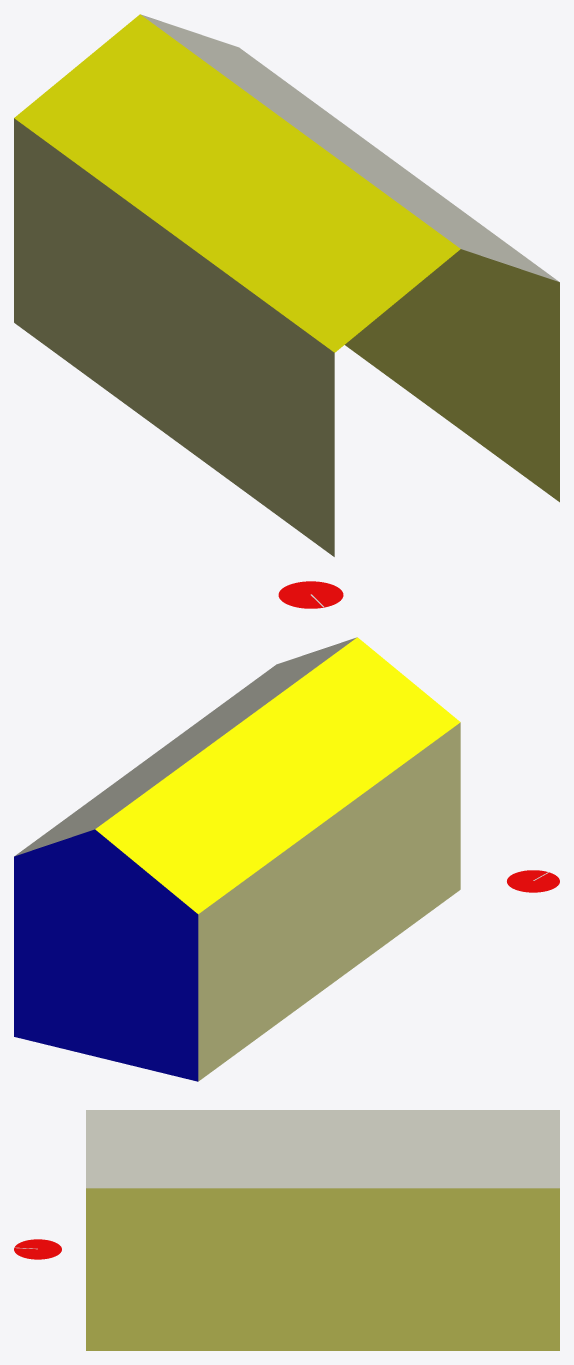
The model's file is result.glb.
3 renders of one model, top to bottom at view 1: azimuth 30°, elevation 25°; view 2: azimuth 150°, elevation 25°; view 3: azimuth 270°, elevation 25°, orthographic. The views are drawn at different scales.
Visible parts, largest first — view 1: aa509c49-599c-41b8-8ac4-75c00ee366f7__undefined, 5690f084-a751-48bd-b3af-f2ab0686deff__undefined, a29b5246-f253-46e8-9c2e-6024d4045c79__undefined, b1ad3165-e57b-4217-94e1-68bbd7c3fe3b__undefined, b8d751ab-0cc4-4c48-9a34-1dfad7b91958__Circle; view 2: aa509c49-599c-41b8-8ac4-75c00ee366f7__undefined, 5690f084-a751-48bd-b3af-f2ab0686deff__undefined, 6f7b2bb3-0bf7-476f-9795-7c1560652826__undefined, b1ad3165-e57b-4217-94e1-68bbd7c3fe3b__undefined, b8d751ab-0cc4-4c48-9a34-1dfad7b91958__Circle; view 3: a29b5246-f253-46e8-9c2e-6024d4045c79__undefined, b1ad3165-e57b-4217-94e1-68bbd7c3fe3b__undefined, b8d751ab-0cc4-4c48-9a34-1dfad7b91958__Circle.
Boxes of the visible parts, left/top/right/bottom form: aa509c49-599c-41b8-8ac4-75c00ee366f7__undefined: left=14, top=118, right=334, bottom=556; 5690f084-a751-48bd-b3af-f2ab0686deff__undefined: left=14, top=14, right=460, bottom=352; a29b5246-f253-46e8-9c2e-6024d4045c79__undefined: left=345, top=249, right=559, bottom=502; b1ad3165-e57b-4217-94e1-68bbd7c3fe3b__undefined: left=141, top=14, right=558, bottom=281; b8d751ab-0cc4-4c48-9a34-1dfad7b91958__Circle: left=278, top=581, right=343, bottom=608; aa509c49-599c-41b8-8ac4-75c00ee366f7__undefined: left=198, top=722, right=460, bottom=1081; 5690f084-a751-48bd-b3af-f2ab0686deff__undefined: left=95, top=637, right=460, bottom=914; 6f7b2bb3-0bf7-476f-9795-7c1560652826__undefined: left=14, top=829, right=198, bottom=1081; b1ad3165-e57b-4217-94e1-68bbd7c3fe3b__undefined: left=14, top=637, right=356, bottom=856; b8d751ab-0cc4-4c48-9a34-1dfad7b91958__Circle: left=507, top=870, right=559, bottom=892; a29b5246-f253-46e8-9c2e-6024d4045c79__undefined: left=86, top=1188, right=559, bottom=1350; b1ad3165-e57b-4217-94e1-68bbd7c3fe3b__undefined: left=86, top=1110, right=559, bottom=1188; b8d751ab-0cc4-4c48-9a34-1dfad7b91958__Circle: left=14, top=1239, right=61, bottom=1259.
Bounding box in the file's own units: 550 × 471 × 1137.
